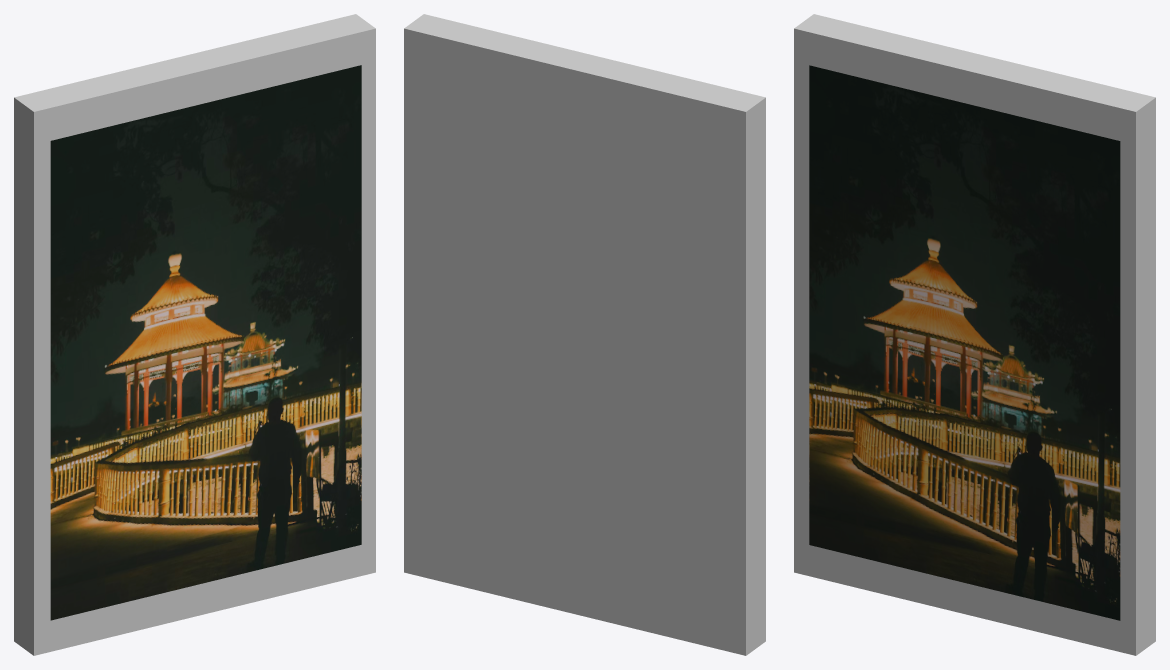
The model's file is huang (2).glb.
The picture shows the model from 3 angles, left to right: view 1: azimuth 30°, elevation 25°; view 2: azimuth 150°, elevation 25°; view 3: azimuth 330°, elevation 25°; orthographic projection.
Visible parts, largest first — view 1: 平面, 立方体; view 2: 立方体; view 3: 平面, 立方体.
Boxes of the visible parts, x1=… form: 平面: x1=50, y1=65, x2=361, y2=620; 立方体: x1=14, y1=14, x2=375, y2=655; 立方体: x1=404, y1=14, x2=765, y2=655; 平面: x1=809, y1=65, x2=1120, y2=620; 立方体: x1=794, y1=14, x2=1155, y2=655.
Bounding box in the file's own units: 1.49 × 2.27 × 0.1551.
1 material, 1 textured.
